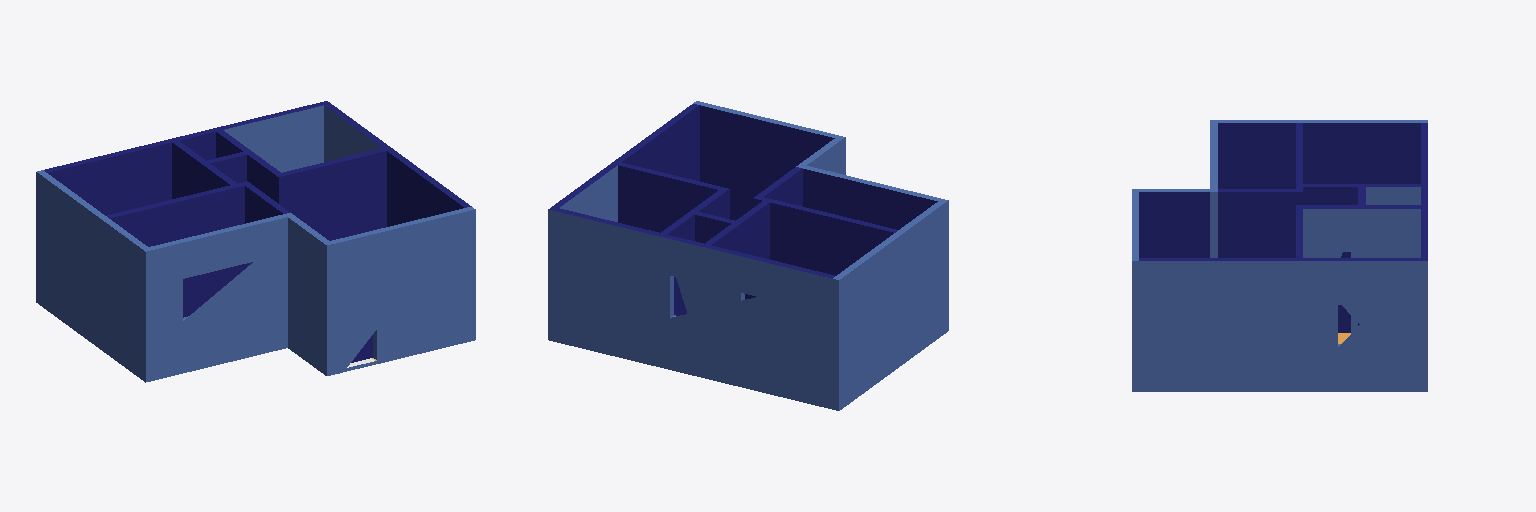
The picture shows the model from 3 angles: view 1: azimuth 30°, elevation 25°; view 2: azimuth 150°, elevation 25°; view 3: azimuth 270°, elevation 25°; orthographic projection.
Visible parts, largest first — view 1: Cube; view 2: Cube; view 3: Cube.
Part boxes in pixels (left/top/right/bottom): Cube: left=36, top=101, right=475, bottom=382; Cube: left=548, top=101, right=948, bottom=410; Cube: left=1132, top=120, right=1427, bottom=391.
Bounding box in the file's own units: 8.6 × 3.7 × 7.6.
1 materials, 1 textured.